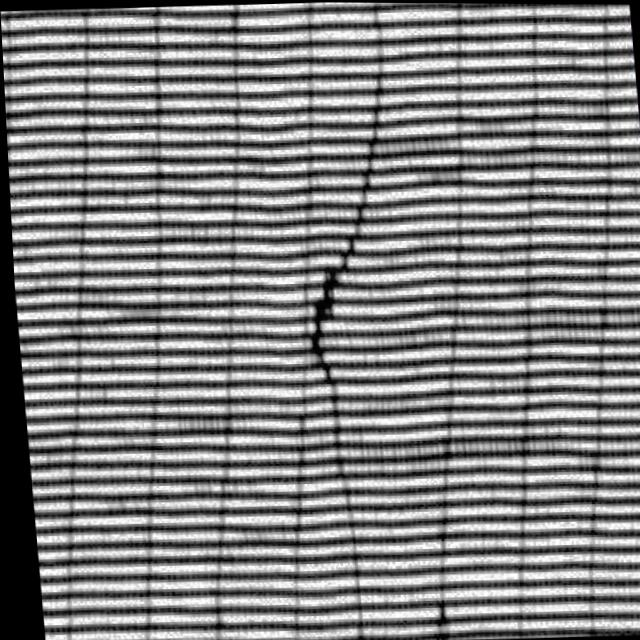Stitch: (281, 110, 420, 467)
